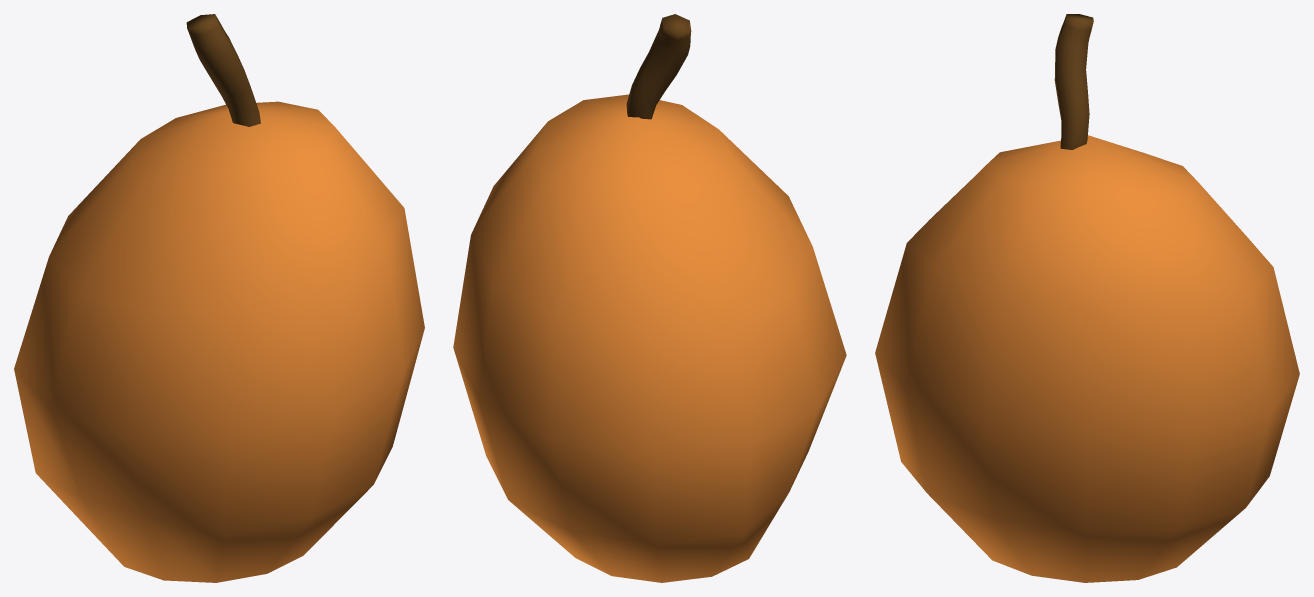
File: Mango.fbx
3 views of the same model, side by side, from view 1: azimuth 30°, elevation 25°; view 2: azimuth 150°, elevation 25°; view 3: azimuth 270°, elevation 25° (orthographic). The views are drawn at different scales.
Visible parts, largest first — view 1: Mango; view 2: Mango; view 3: Mango.
Boxes of the visible parts, box(x1,y1,x2,y2) form: Mango: box(14, 14, 424, 582); Mango: box(453, 14, 846, 582); Mango: box(875, 14, 1299, 582).
Bounding box in the file's own units: 47.6 × 73.38 × 51.06.
